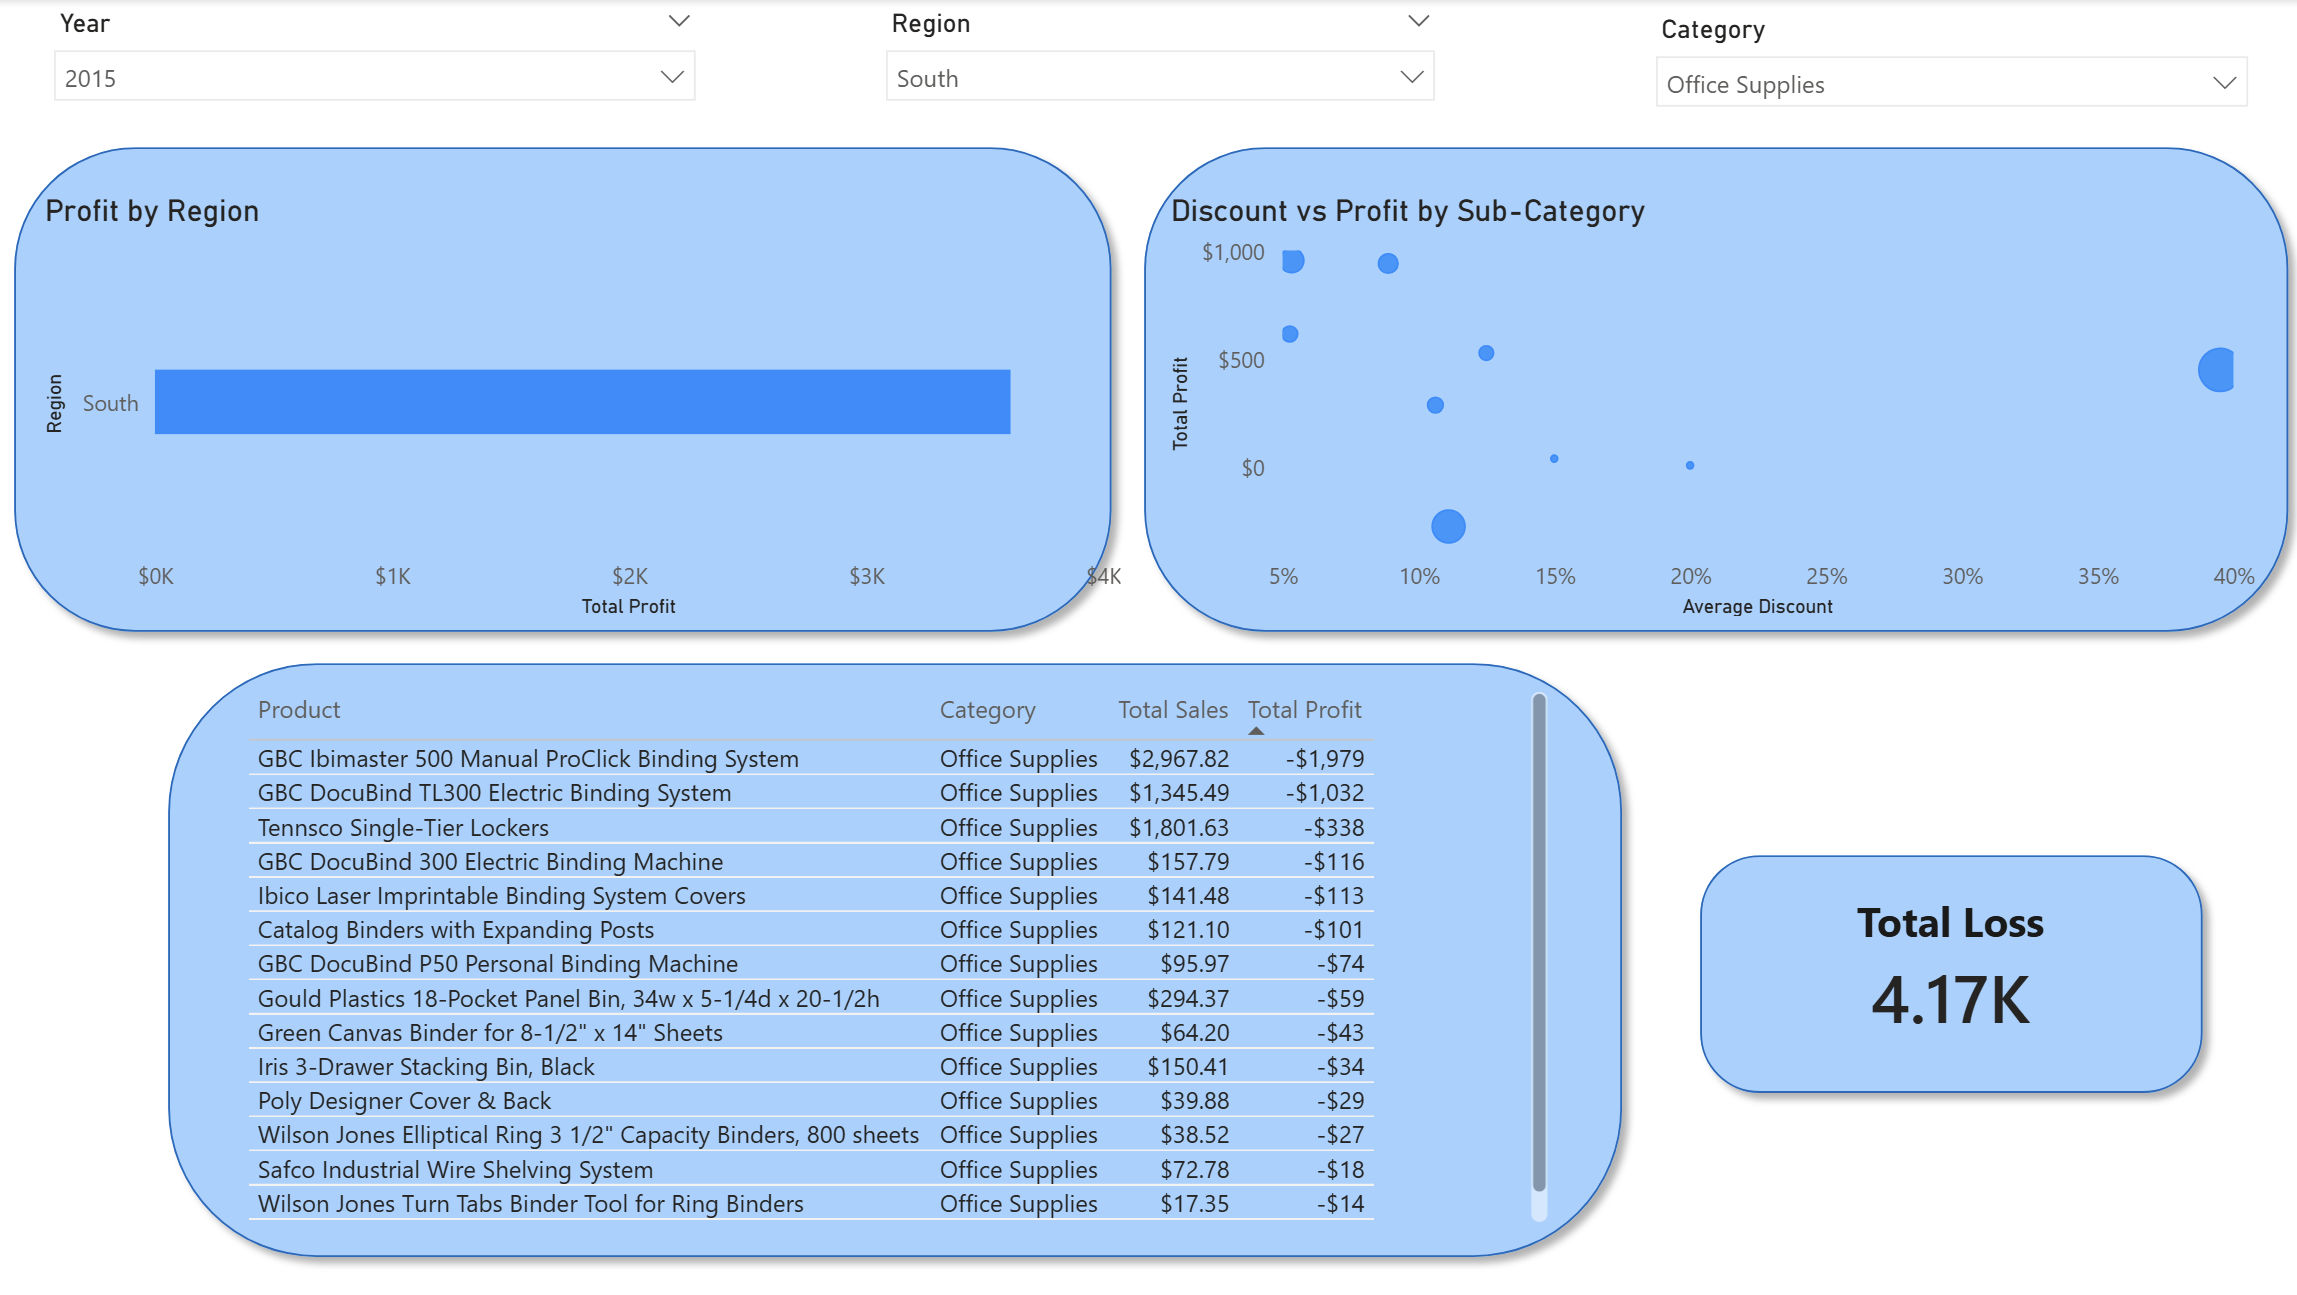

What the dashboard file says about the page in this screenshot:
{"tool":"powerbi","page":{"name":"Profitability Deep Dive","canvas":[1280,720],"ordinal":1},"visuals":[{"type":"shape","box":[0,73,627.6,287.2],"z":0,"group":"g1"},{"type":"group","id":"g1","title":"Background","box":[0,73,1281.2,635],"z":0},{"type":"shape","box":[627.6,73,653.6,287.2],"z":1000,"group":"g1"},{"type":"clusteredBarChart","title":"Profit by Region","fields":{"Category":["superstore_orders.Region"],"Y":["Measures .Total Profit"]},"box":[21,108,607.7,240.1],"z":1000},{"type":"shape","box":[85.4,360.2,825.7,347.9],"z":2000,"group":"g1"},{"type":"tableEx","fields":{"Values":["superstore_orders.Product_Name","superstore_orders.Category","Measures .Total Sales","Measures .Total Profit"]},"box":[133.6,379.6,732.3,304.6],"z":2000},{"type":"scatterChart","title":"Discount vs Profit by Sub-Category","fields":{"X":["Measures .Average Discount"],"Y":["Measures .Total Profit"],"Size":["Measures .Total Sales"],"Category":["superstore_orders.Sub_Category"]},"box":[646.8,108,612.2,240.1],"z":3000},{"type":"shape","box":[936.4,466.1,297.1,150.1],"z":3000,"group":"g1"},{"type":"cardVisual","fields":{"Data":["Measures .Total Loss"]},"box":[942.4,456.2,285.1,162.1],"z":4000},{"type":"slicer","fields":{"Values":["superstore_orders.Order_Date.Variation.Date Hierarchy.Year"]},"box":[21.2,0,376.2,72.5],"z":5000},{"type":"slicer","fields":{"Values":["superstore_orders.Region"]},"box":[483.8,0,325,72.5],"z":6000},{"type":"slicer","fields":{"Values":["superstore_orders.Category"]},"box":[911.2,3.8,348.8,68.8],"z":7000}]}

Visuals, with their boxes in screenshot pixels (x1, y1, x2, y2), scaled from the page's 1280x720 canvas onto the 2297x1295 screenshot:
shape: [0,131,1126,648]
"Background" group: [0,131,2296,1273]
shape: [1126,131,2296,648]
"Profit by Region" clusteredBarChart: [38,194,1128,626]
shape: [153,648,1635,1274]
tableEx - superstore_orders.Product_Name x superstore_orders.Category: [240,683,1554,1231]
"Discount vs Profit by Sub-Category" scatterChart: [1161,194,2259,626]
shape: [1680,838,2214,1108]
cardVisual - Measures .Total Loss: [1691,821,2203,1112]
slicer - superstore_orders.Order_Date.Variation.Date Hierarchy.Year: [38,0,713,130]
slicer - superstore_orders.Region: [868,0,1451,130]
slicer - superstore_orders.Category: [1635,7,2261,131]
